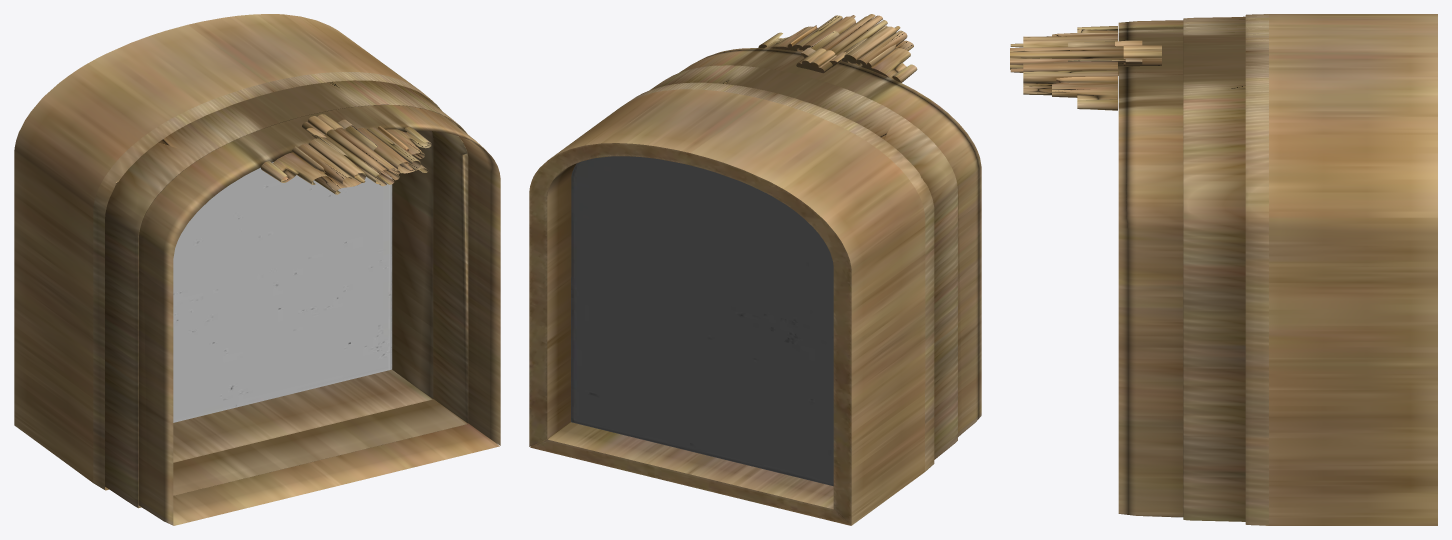
The model's file is ph-ornate-mirror-01.glb.
The picture shows the model from 3 angles, left to right: view 1: azimuth 30°, elevation 25°; view 2: azimuth 150°, elevation 25°; view 3: azimuth 270°, elevation 25°; orthographic projection. The views are drawn at different scales.
Parts seen in each view (by area): view 1: ornate_mirror_01; view 2: ornate_mirror_01; view 3: ornate_mirror_01.
Boxes of the visible parts, left/top/right/bottom form: ornate_mirror_01: left=14, top=14, right=500, bottom=525; ornate_mirror_01: left=529, top=14, right=981, bottom=525; ornate_mirror_01: left=1010, top=14, right=1437, bottom=525.
Size of the model in its own units: 1 by 1 by 1.
1 material, 1 textured.
